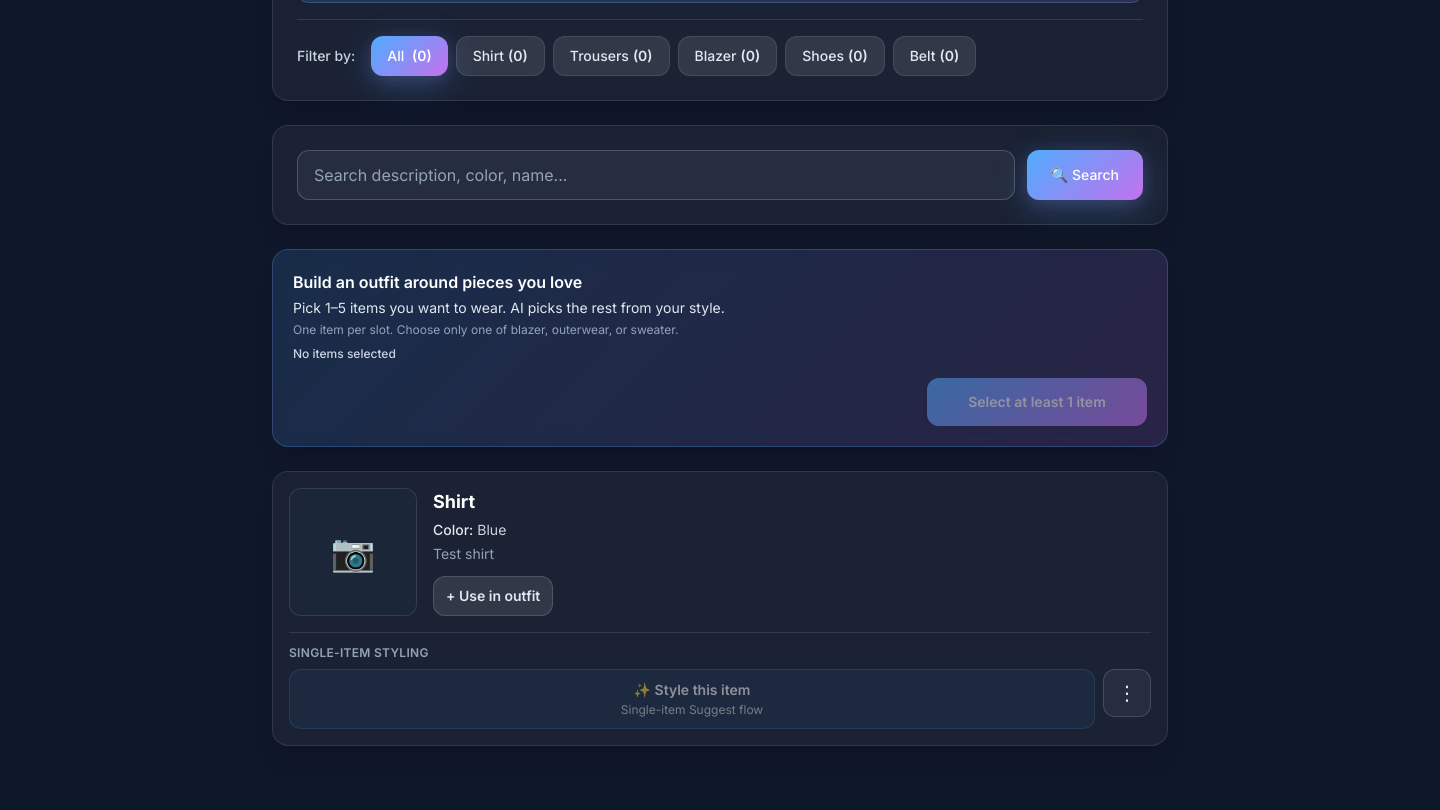
Test: Wardrobe page › opens edit modal from overflow menu
(page scrolled)
Click the button "⋮".
click(1127, 693)  # box [1103,669,1151,717]
(page scrolled)
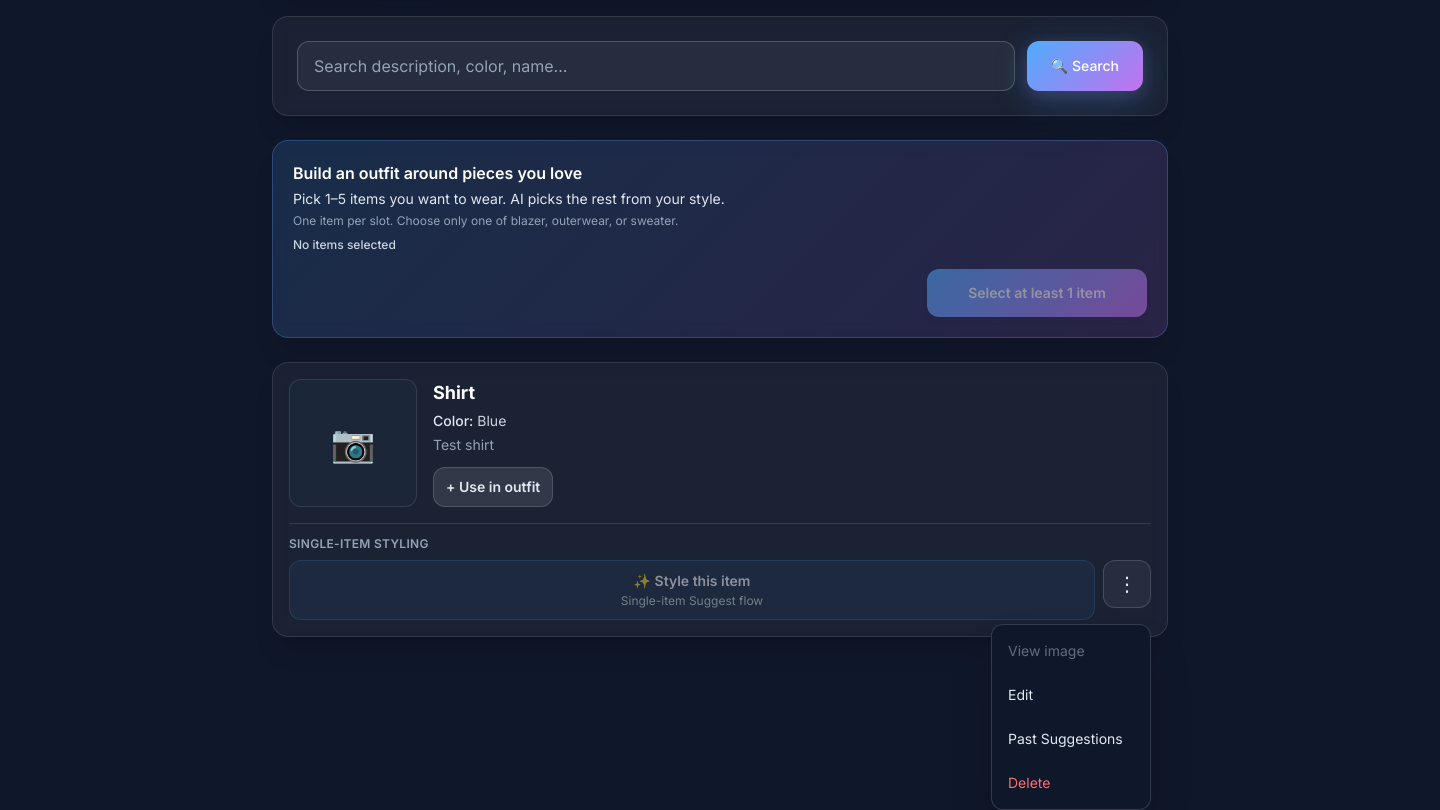
Click the menu item "Edit".
click(1071, 695)  # box [992,673,1150,717]
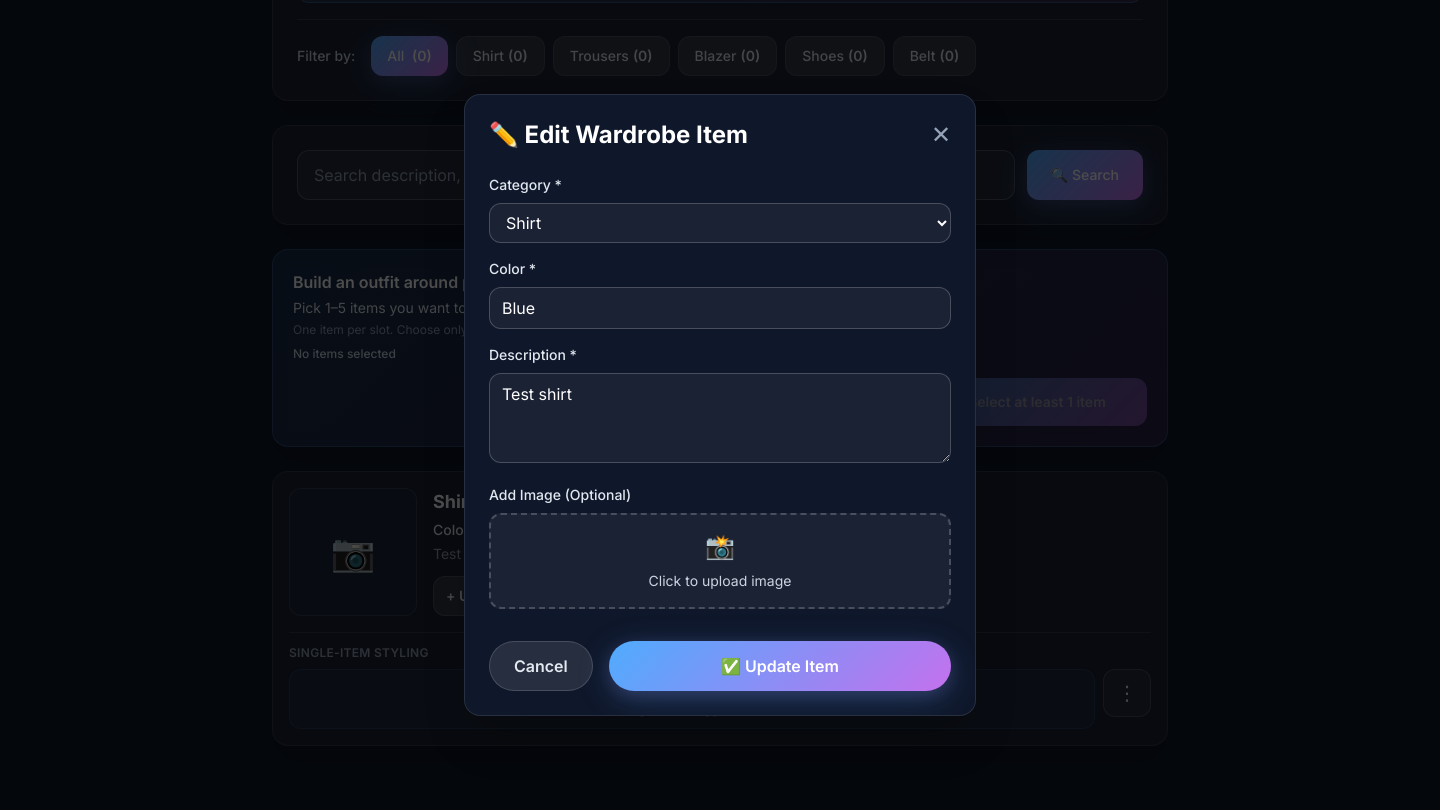
Check: the heading "✏️ Edit Wardrobe Item" is shown, box [489,119,748,151]
